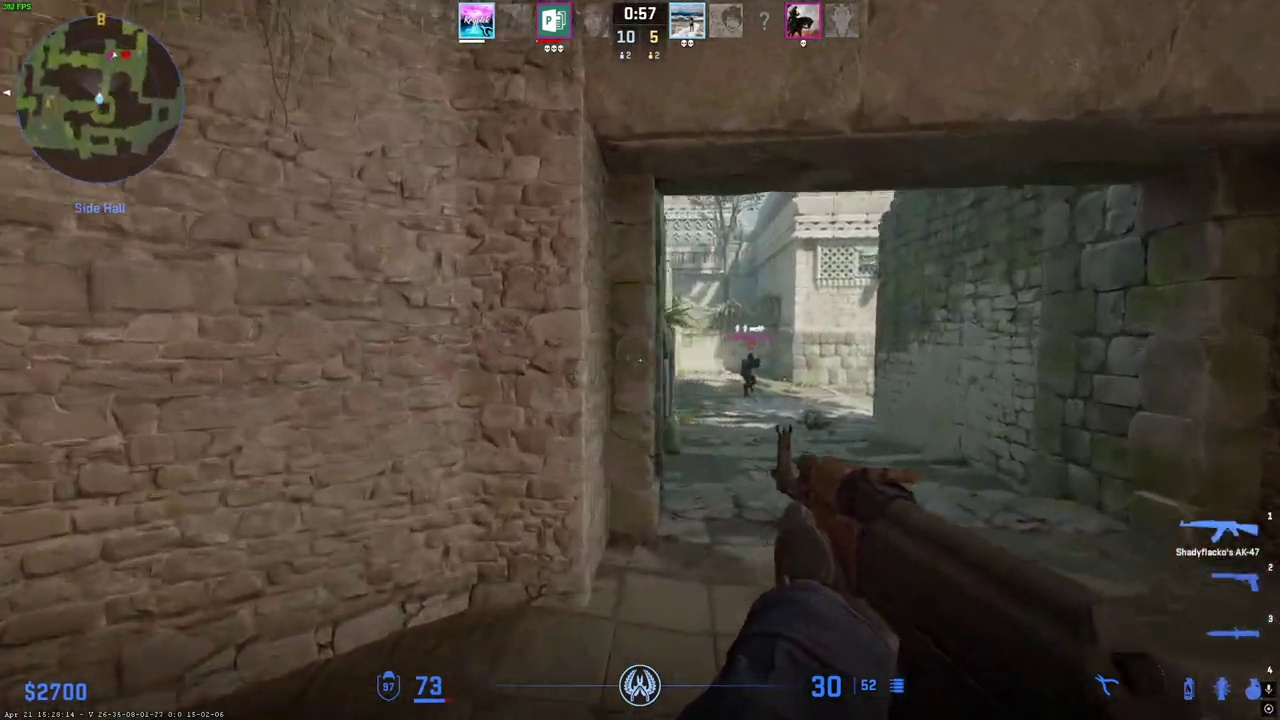CT: (741, 352, 759, 396)
